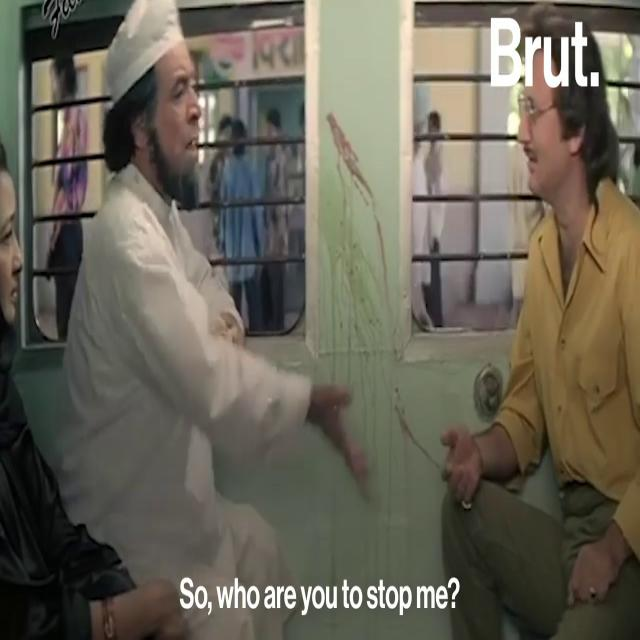spit: (312, 101, 393, 374)
